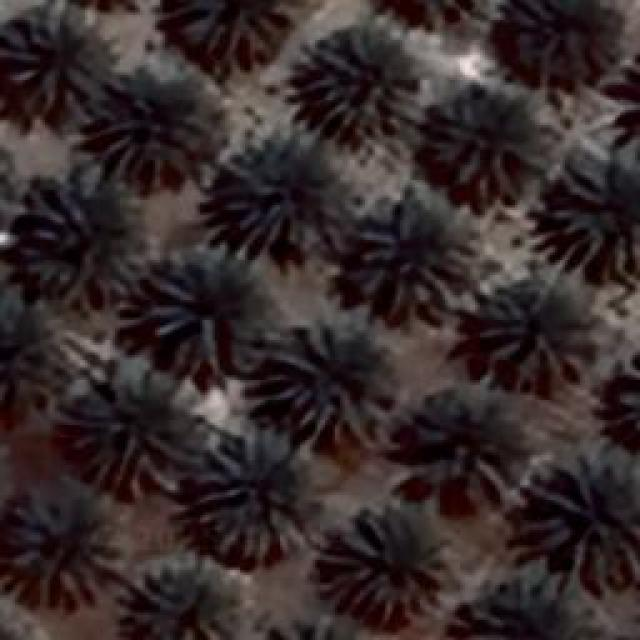PalmTree: (102, 44, 558, 115), (255, 312, 398, 446), (215, 128, 360, 252), (355, 180, 483, 320), (72, 358, 198, 498), (285, 20, 425, 145), (19, 175, 152, 303), (147, 245, 275, 375), (33, 115, 102, 350), (315, 502, 450, 622), (192, 428, 310, 562), (2, 5, 116, 120), (478, 270, 592, 385), (430, 90, 545, 202), (5, 495, 120, 605), (520, 455, 638, 560), (550, 152, 638, 278), (116, 75, 212, 180), (128, 555, 245, 635), (416, 402, 514, 496), (170, 0, 290, 62), (478, 582, 602, 640), (256, 614, 372, 640), (613, 346, 640, 453), (367, 0, 489, 21), (0, 133, 21, 234), (0, 132, 15, 236)
